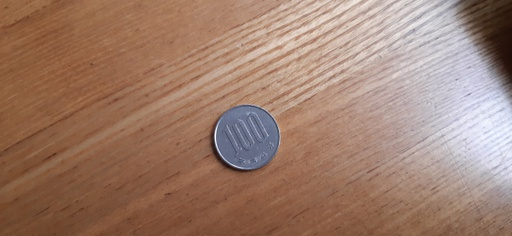100yen: (214, 106, 279, 169)
